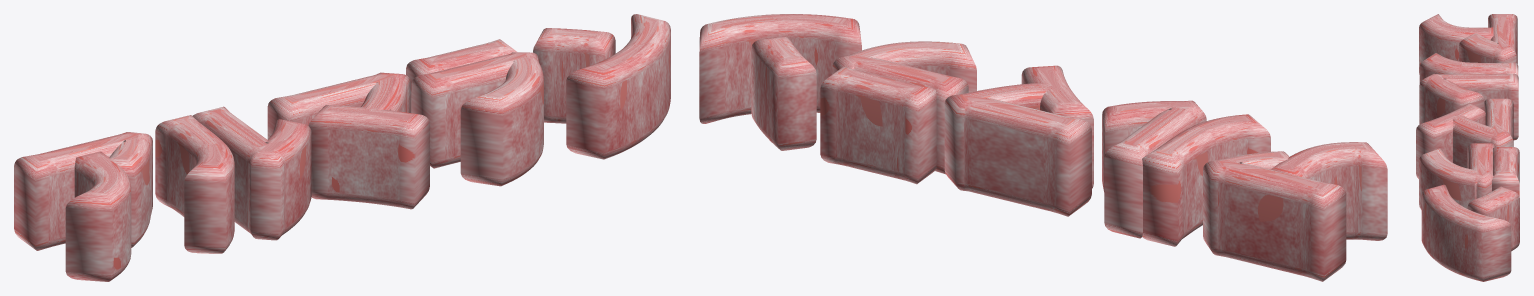
Rendered from arumatitle.gltf.
3 renders of one model, left to right at view 1: azimuth 30°, elevation 25°; view 2: azimuth 150°, elevation 25°; view 3: azimuth 270°, elevation 25°, orthographic. The views are drawn at different scales.
Visible parts, largest first — view 1: テキスト; view 2: テキスト; view 3: テキスト.
Boxes of the visible parts, bbox=[...] form: テキスト: bbox=[14, 14, 670, 281]; テキスト: bbox=[699, 14, 1387, 281]; テキスト: bbox=[1416, 14, 1519, 281].
Bounding box in the file's own units: 12.8 × 1.68 × 2.6.
Materials: 1 (1 with a texture image).
